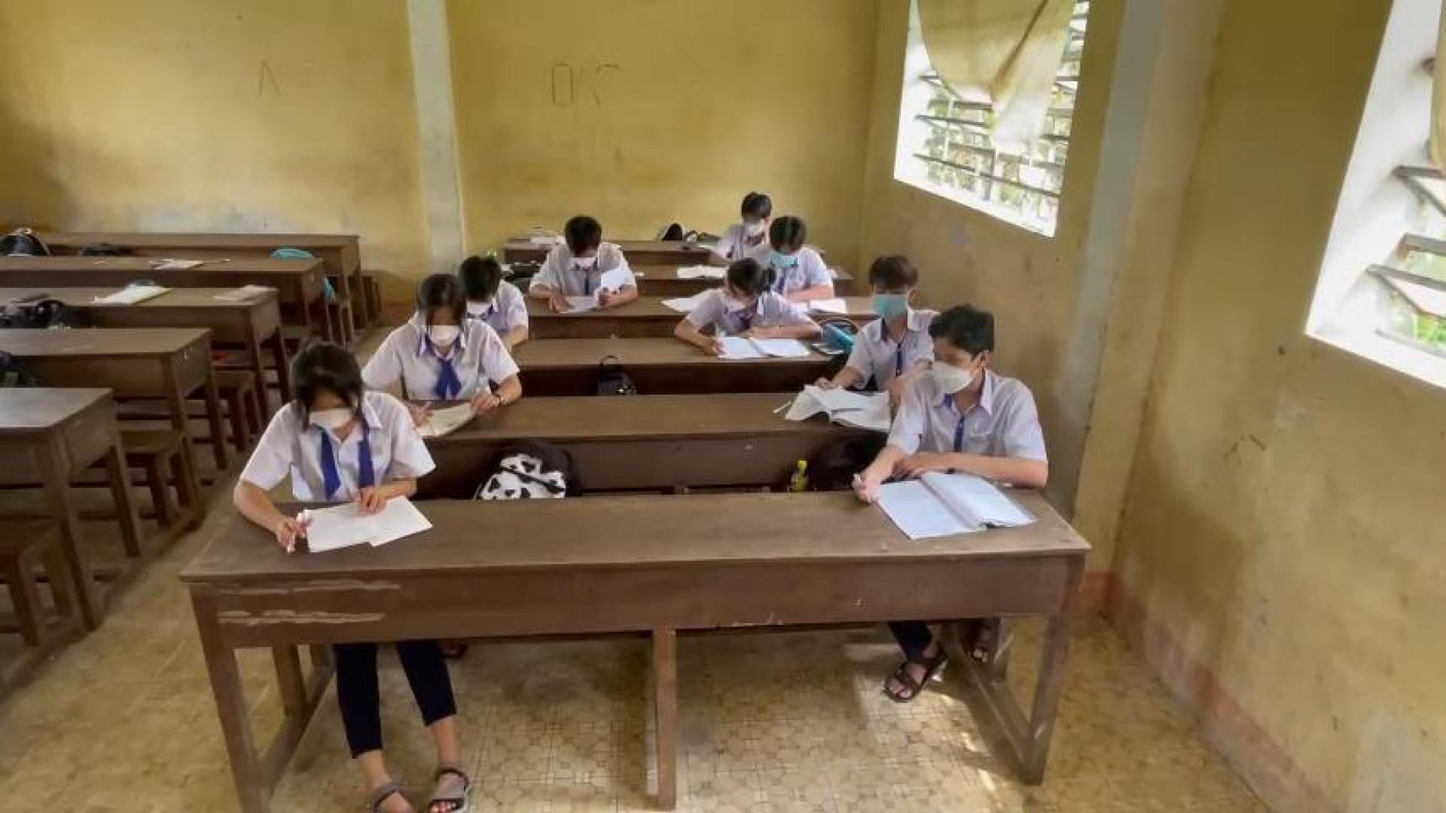Look Around: (901, 291, 1006, 406), (709, 251, 780, 320)
